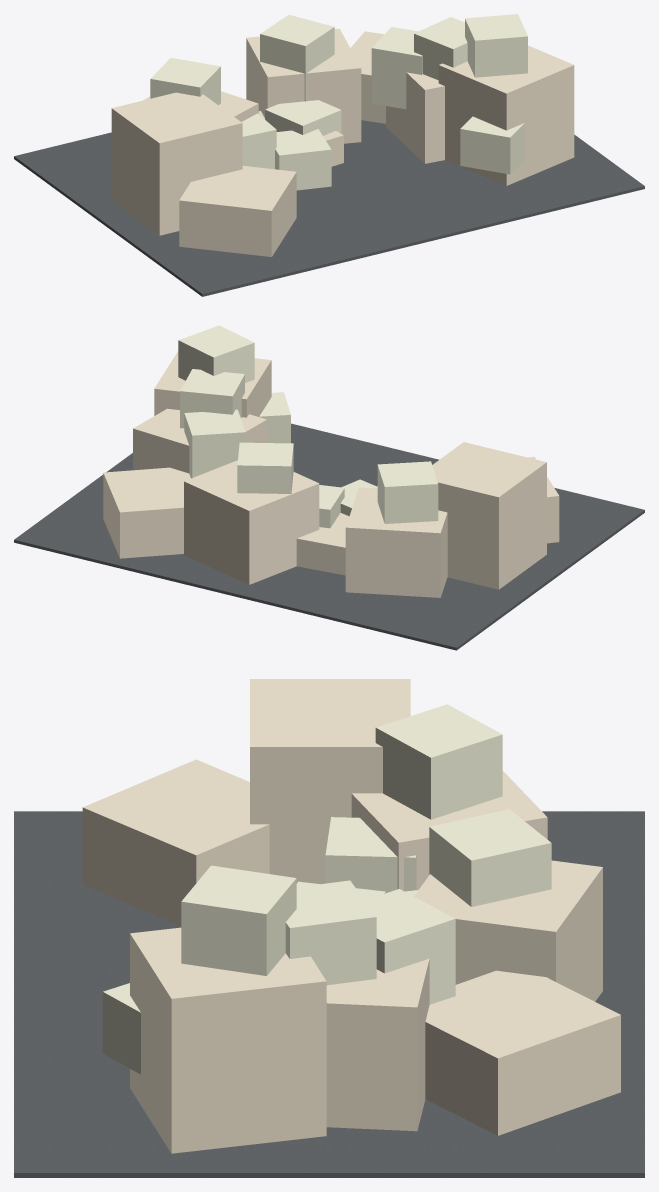
3 renders of one model, top to bottom at view 1: azimuth 30°, elevation 25°; view 2: azimuth 150°, elevation 25°; view 3: azimuth 270°, elevation 25°, orthographic. The views are drawn at different scales.
Parts seen in each view (by area): view 1: 26570, Cube 1#3, Cube 1#1, Cube 1, Cube 1#5, Cube 1#2, 26214, 26502, 26327, 26185, 26113, 26444 (+6 smaller); view 2: 26570, Cube 1#3, Cube 1#5, Cube 1#4, Cube 1#6, 26444, Cube 1#2, 26214, 26327, 26502, 26271, Cube 1#1 (+5 smaller); view 3: 26570, Cube 1#1, Cube 1#6, Cube 1#3, Cube 1, Cube 1#2, Cube 1#5, 26444, 26214, 26502, 26271, 26327 (+3 smaller).
Part boxes in pixels (x1,y1,x2,y2): 26570: [14, 120, 644, 296]; Cube 1#3: [111, 92, 242, 235]; Cube 1#1: [438, 45, 574, 185]; Cube 1: [179, 165, 296, 256]; Cube 1#5: [246, 28, 361, 143]; Cube 1#2: [386, 72, 444, 163]; 26214: [465, 14, 527, 77]; 26502: [260, 14, 334, 101]; 26327: [371, 27, 422, 109]; 26185: [460, 116, 524, 174]; 26113: [275, 129, 331, 190]; 26444: [150, 57, 220, 105]; 26570: [14, 423, 644, 650]; Cube 1#3: [432, 442, 546, 589]; Cube 1#5: [184, 460, 319, 584]; Cube 1#4: [345, 487, 447, 597]; Cube 1#6: [103, 467, 190, 558]; 26444: [377, 461, 438, 523]; Cube 1#2: [133, 408, 266, 473]; 26214: [178, 325, 254, 382]; 26327: [184, 409, 245, 478]; 26502: [237, 442, 293, 493]; 26271: [180, 369, 244, 428]; Cube 1#1: [154, 351, 271, 417]; 26570: [14, 811, 644, 1177]; Cube 1#1: [130, 927, 326, 1153]; Cube 1#6: [425, 970, 620, 1135]; Cube 1#3: [250, 679, 410, 884]; Cube 1: [82, 759, 269, 926]; Cube 1#2: [326, 958, 429, 1131]; Cube 1#5: [414, 860, 602, 1001]; 26444: [375, 704, 502, 819]; 26214: [181, 865, 296, 975]; 26502: [429, 809, 551, 906]; 26271: [285, 880, 376, 985]; 26327: [365, 889, 455, 1004].
Bounding box in the file's own units: 50.1 × 14.31 × 36.94.
157 materials, 6 textured.
